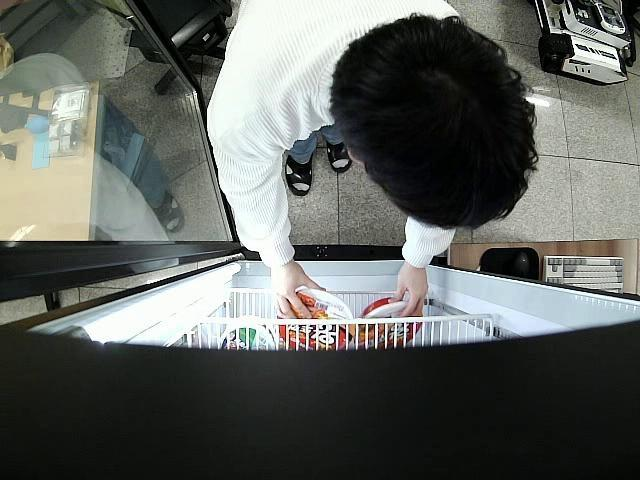10_wangTtukkeong: (277, 289, 356, 350), (359, 297, 424, 350)
